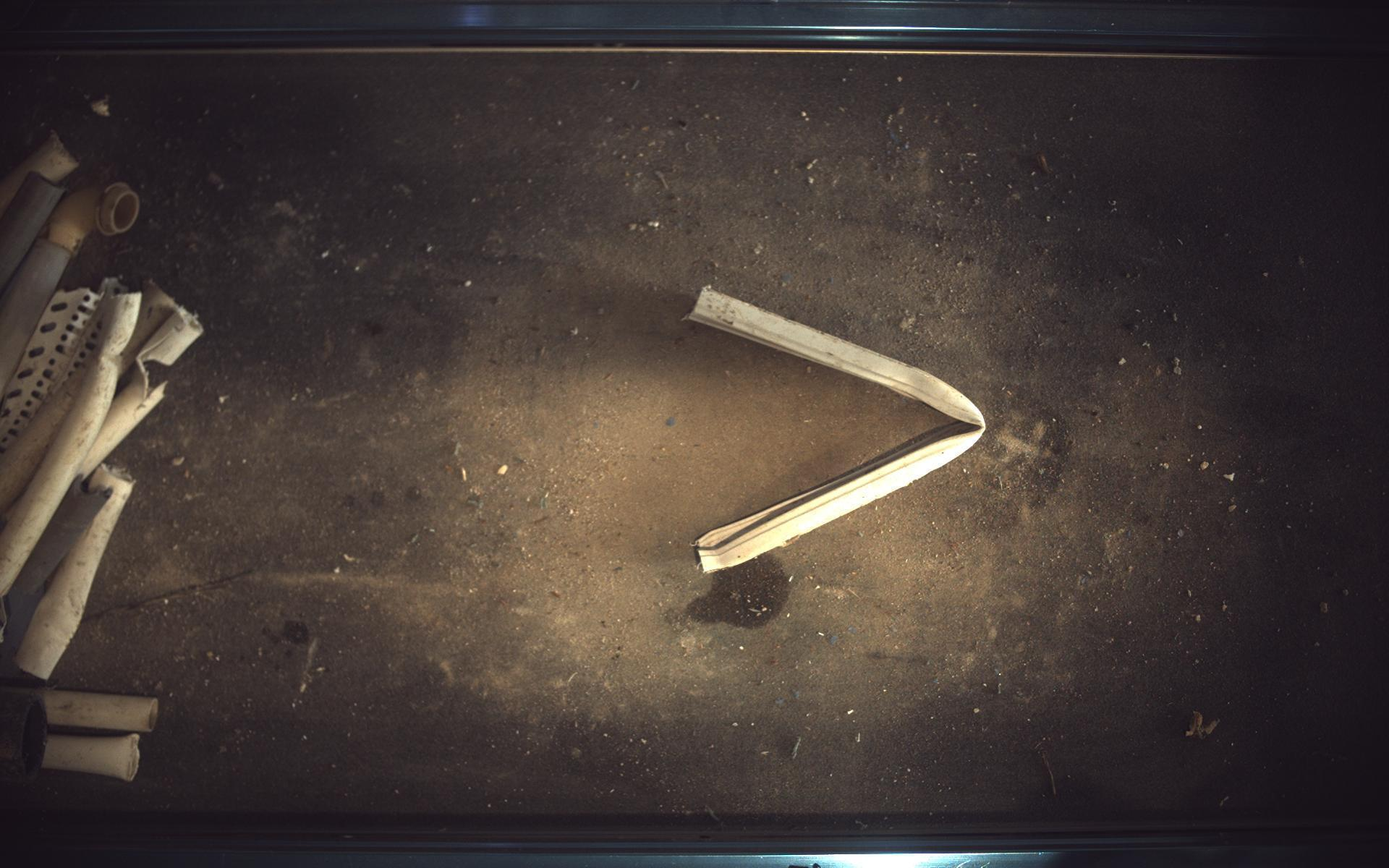pipes: (1, 284, 201, 597), (1, 182, 138, 397), (14, 466, 133, 681), (77, 305, 203, 478), (1, 479, 109, 678), (1, 368, 83, 516), (1, 171, 63, 288), (1, 129, 77, 216), (35, 692, 157, 734), (40, 735, 137, 783), (1, 692, 46, 782)
plastic: (688, 286, 987, 573), (1, 278, 124, 459)
